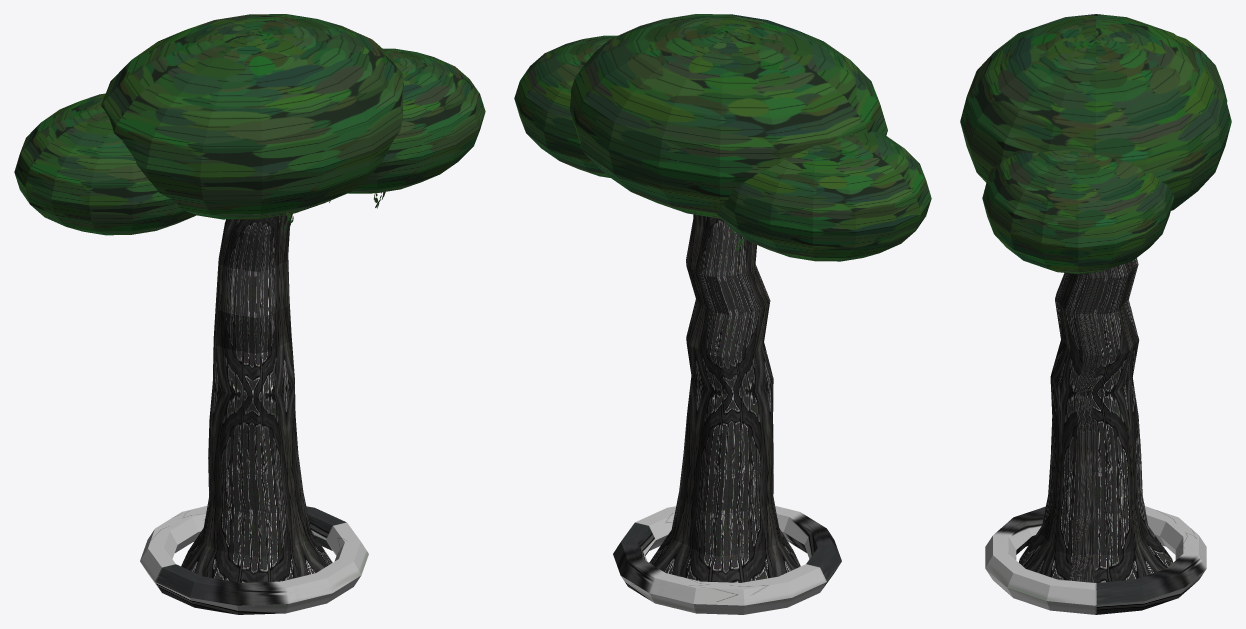
File: san-dinh-cay-de.glb
3 renders of one model, left to right at view 1: azimuth 30°, elevation 25°; view 2: azimuth 150°, elevation 25°; view 3: azimuth 270°, elevation 25°, orthographic.
Parts seen in each view (by area): view 1: san-dinh-cay-de; view 2: san-dinh-cay-de; view 3: san-dinh-cay-de.
Part boxes in pixels (x1,y1,x2,y2): san-dinh-cay-de: (14, 14, 485, 614); san-dinh-cay-de: (514, 14, 931, 614); san-dinh-cay-de: (960, 14, 1231, 614).
Size of the model in its own units: 2.72 by 3.31 by 1.53.
Materials: 4 (4 with a texture image).
